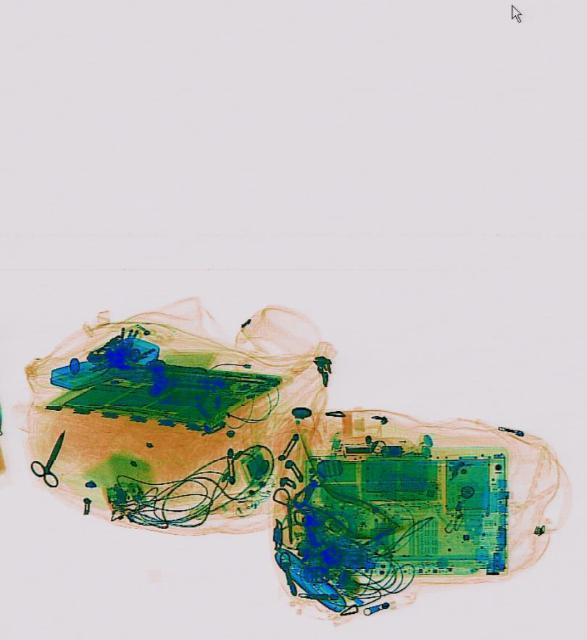Scissors: (23, 423, 78, 487)
